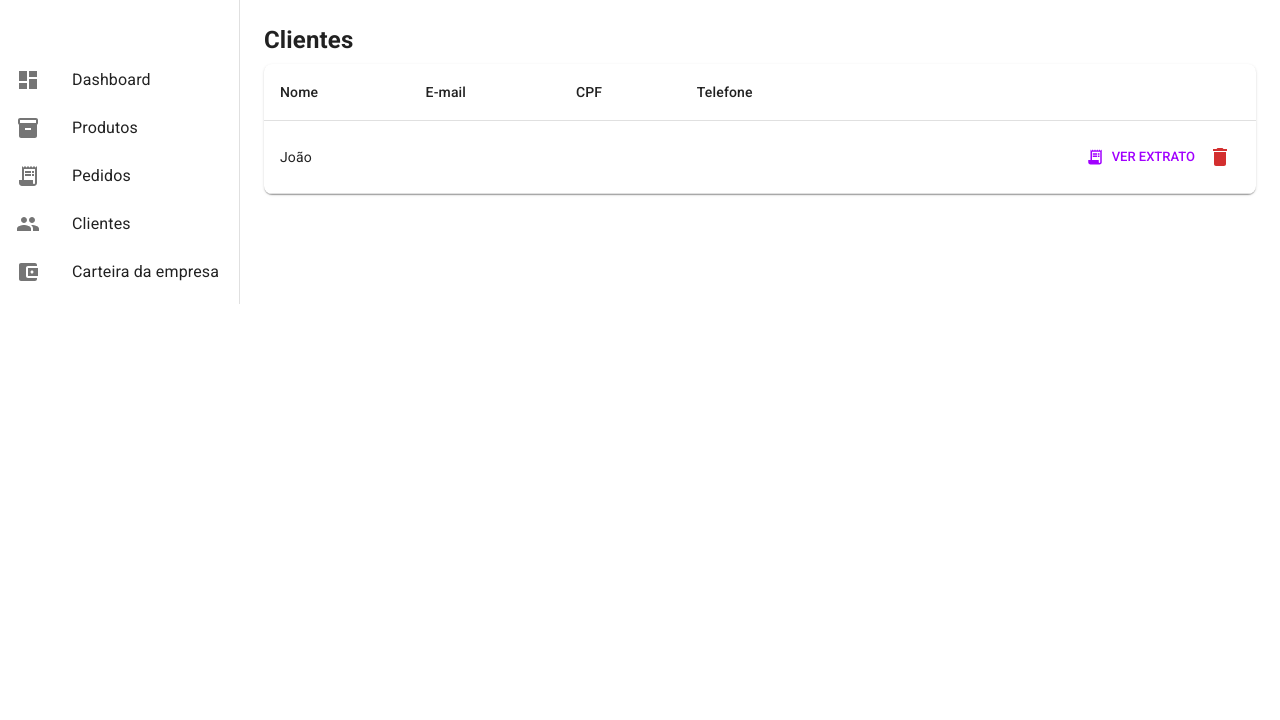
AdminCustomers › drawer com erro em transações mostra "Sem transações"
Expected: the text "João" is shown, [264,121,410,194]
Click the button "Ver extrato".
click(1141, 157)  # box [1083,142,1200,173]
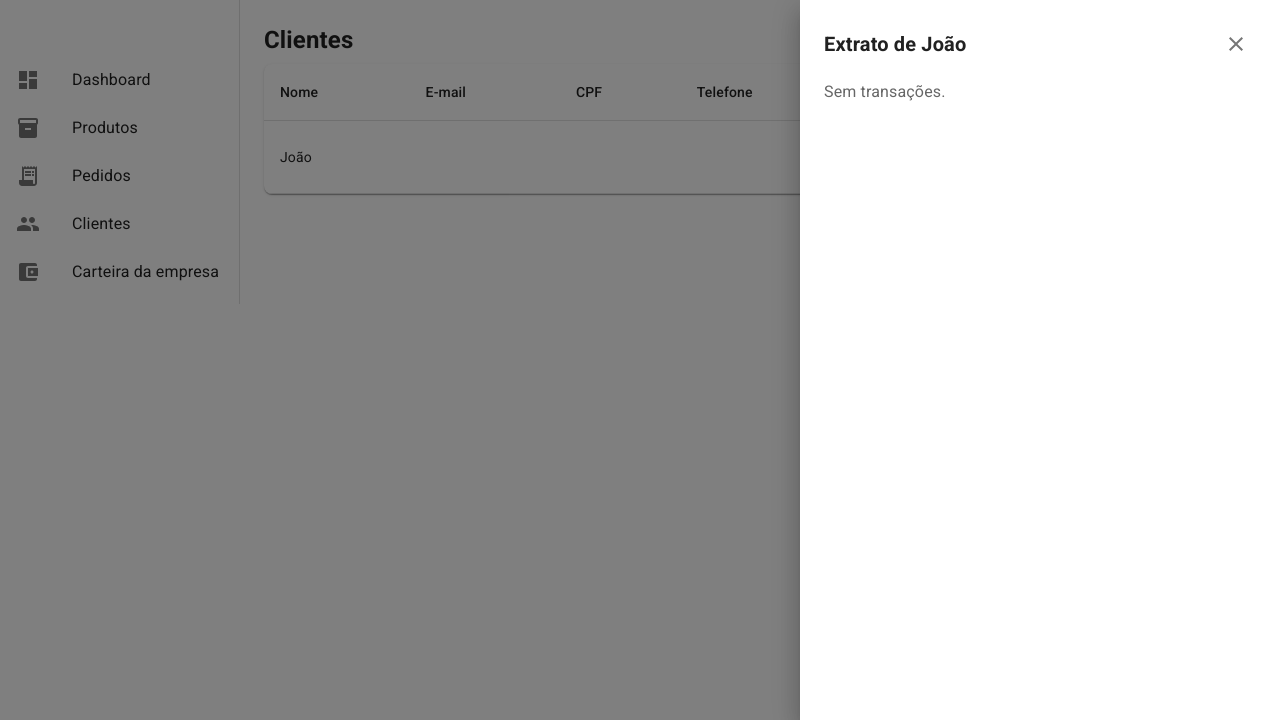
Expected: the text "Sem transações." is shown, [824,82,946,101]
